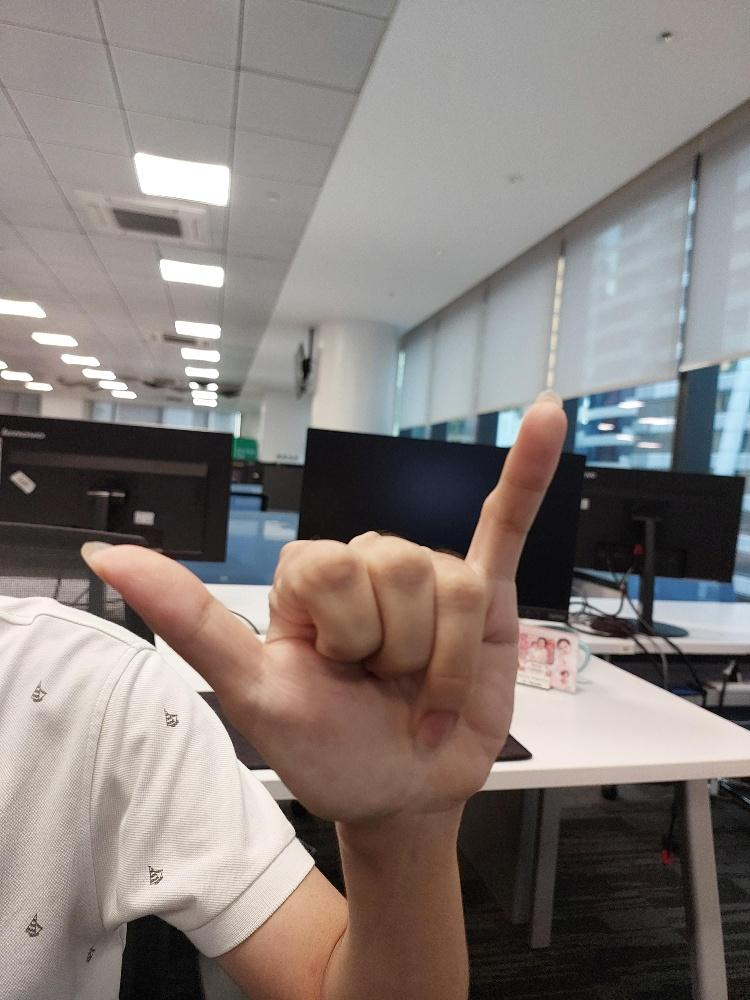y: (81, 391, 569, 816)
